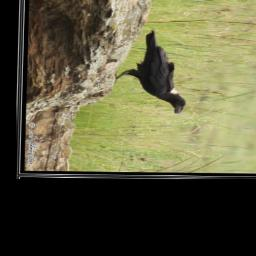Crow: (113, 29, 189, 116)
